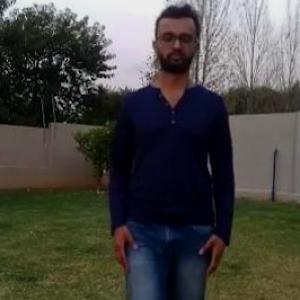follow: (126, 8, 225, 299)
